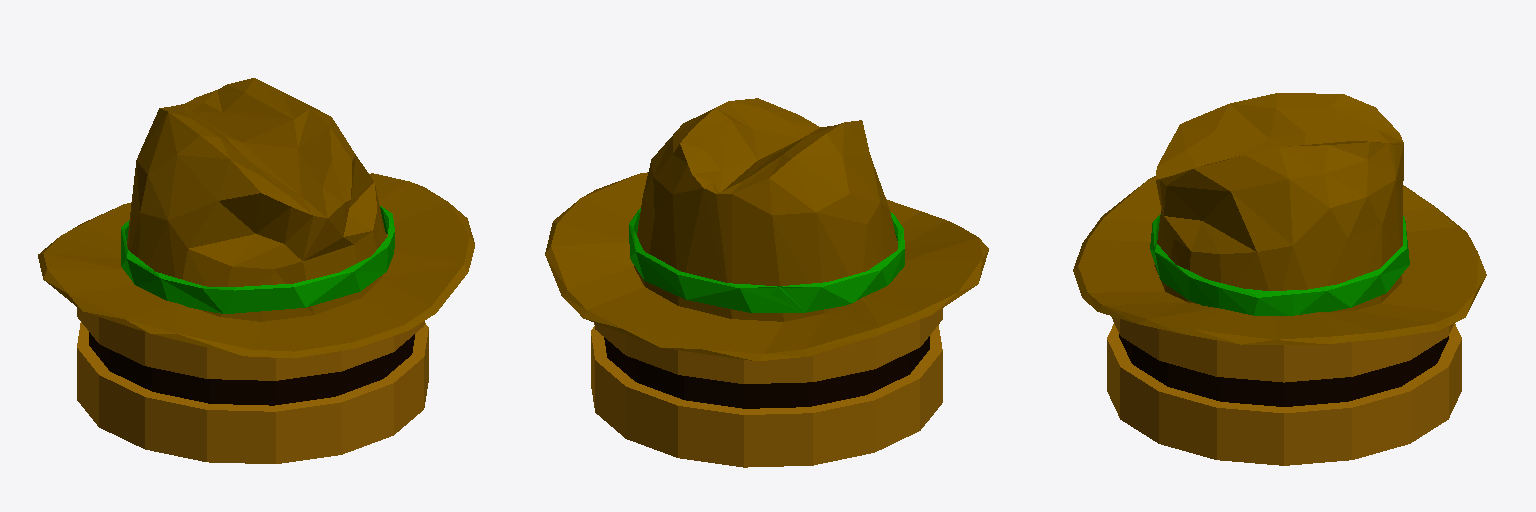
File: burger1.obj
3 views of the same model, side by side, from view 1: azimuth 30°, elevation 25°; view 2: azimuth 150°, elevation 25°; view 3: azimuth 270°, elevation 25° (orthographic).
Visible parts, largest first — view 1: Cylinder.001; view 2: Cylinder.001; view 3: Cylinder.001.
Part boxes in pixels (bbox=[...]): Cylinder.001: bbox=[38, 78, 474, 463]; Cylinder.001: bbox=[545, 98, 988, 467]; Cylinder.001: bbox=[1073, 93, 1486, 465].
Size of the model in its own units: 2.5 by 1.68 by 2.33.